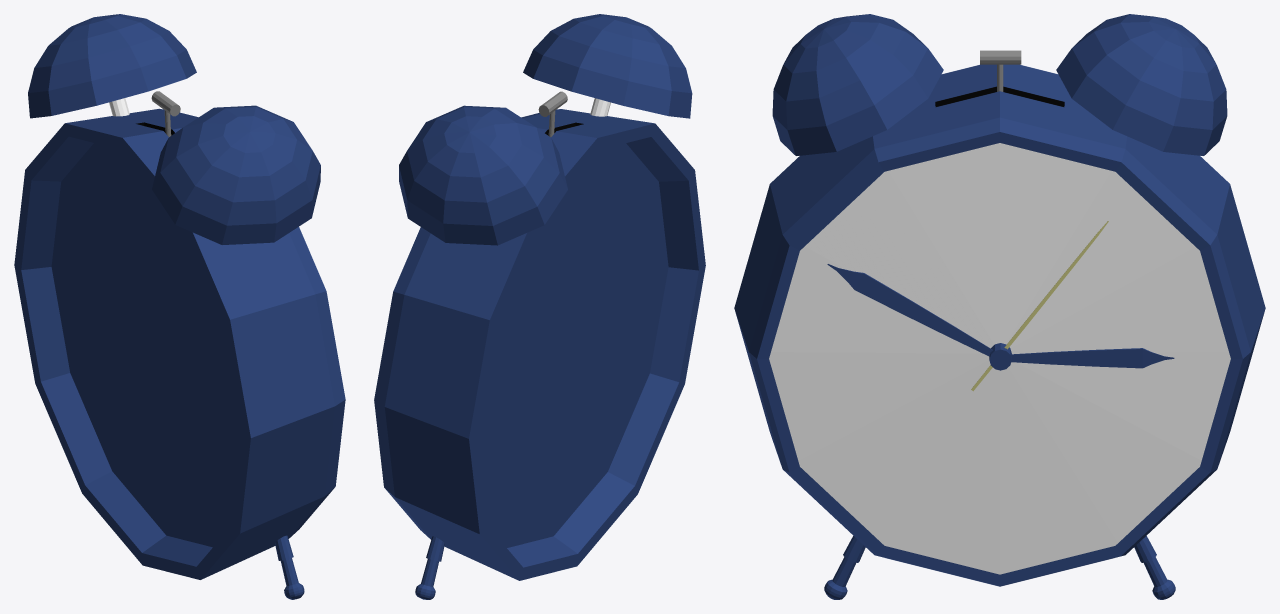
Rendered from SM_AlarmClock_001.fbx.
3 views of the same model, side by side, from view 1: azimuth 30°, elevation 25°; view 2: azimuth 150°, elevation 25°; view 3: azimuth 270°, elevation 25° (orthographic). The views are drawn at different scales.
Visible parts, largest first — view 1: AlarmClock; view 2: AlarmClock; view 3: AlarmClock.
Part boxes in pixels (<box>): AlarmClock: <box>14,14,345,599</box>; AlarmClock: <box>374,14,705,599</box>; AlarmClock: <box>734,14,1265,599</box>.
Bounding box in the file's own units: 10 × 32 × 28.
